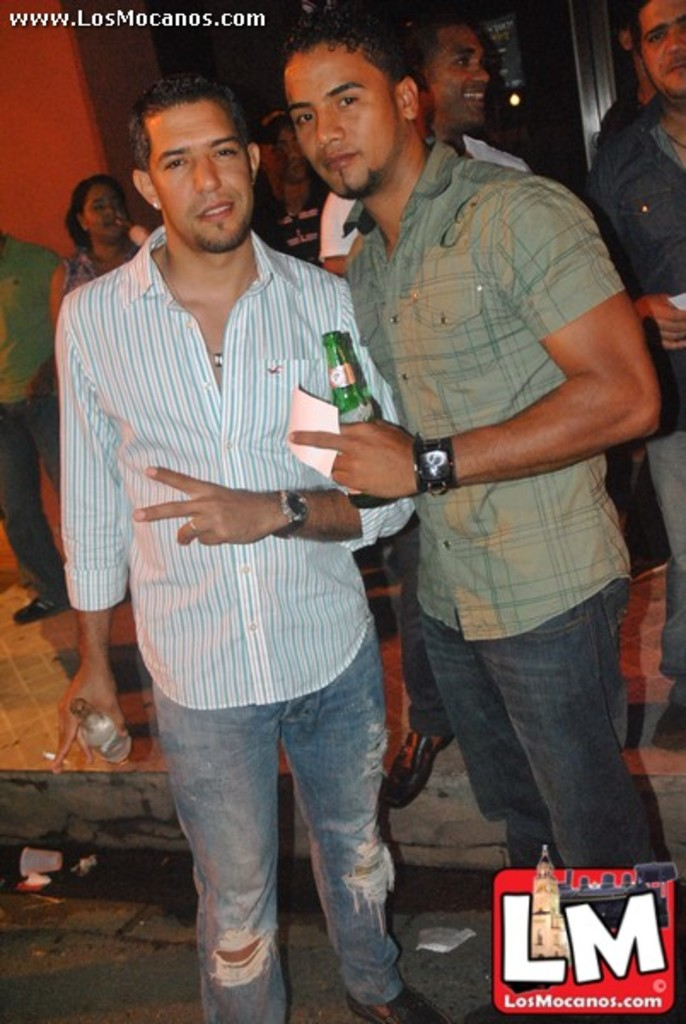Human_hand: (116, 457, 312, 551), (288, 416, 418, 500), (49, 660, 128, 768), (635, 292, 684, 352), (26, 369, 53, 404), (128, 222, 154, 249)
